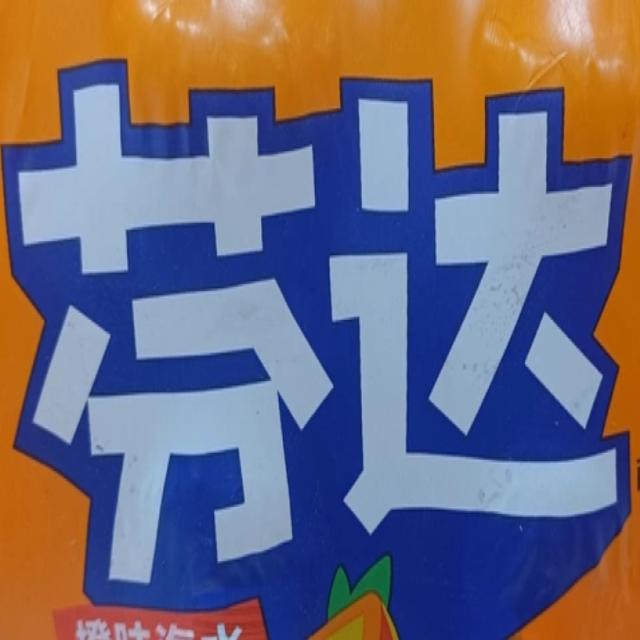orange: (1, 4, 633, 640)
